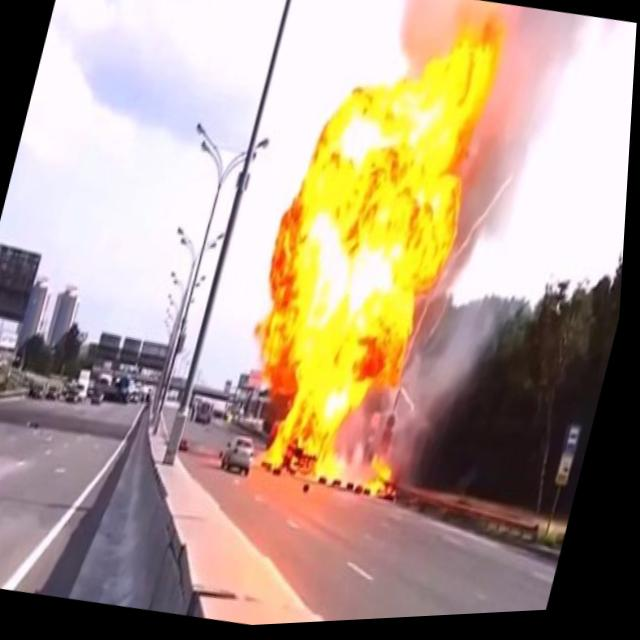fire: (218, 0, 527, 519)
